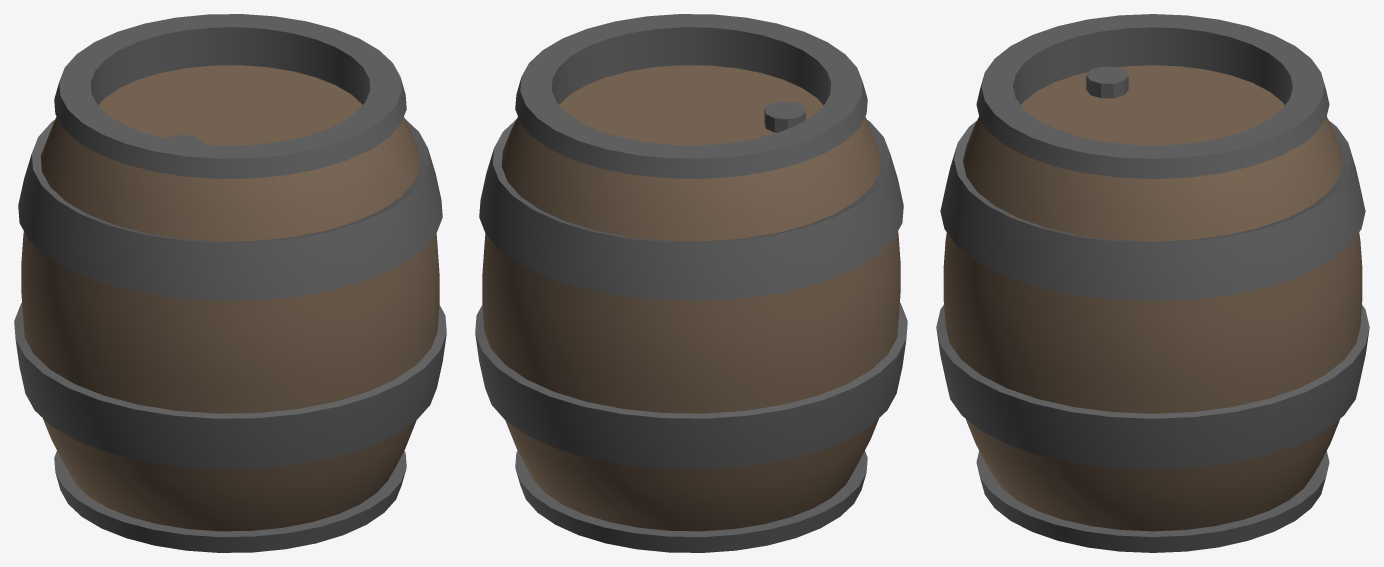
File: Barrel.fbx
3 views of the same model, side by side, from view 1: azimuth 30°, elevation 25°; view 2: azimuth 150°, elevation 25°; view 3: azimuth 270°, elevation 25° (orthographic).
Visible parts, largest first — view 1: Barrel; view 2: Barrel; view 3: Barrel.
Part boxes in pixels (<box>): Barrel: <box>14,14,446,552</box>; Barrel: <box>475,14,907,552</box>; Barrel: <box>936,14,1369,552</box>.
Bounding box in the file's own units: 48.8 × 48.96 × 48.8.
